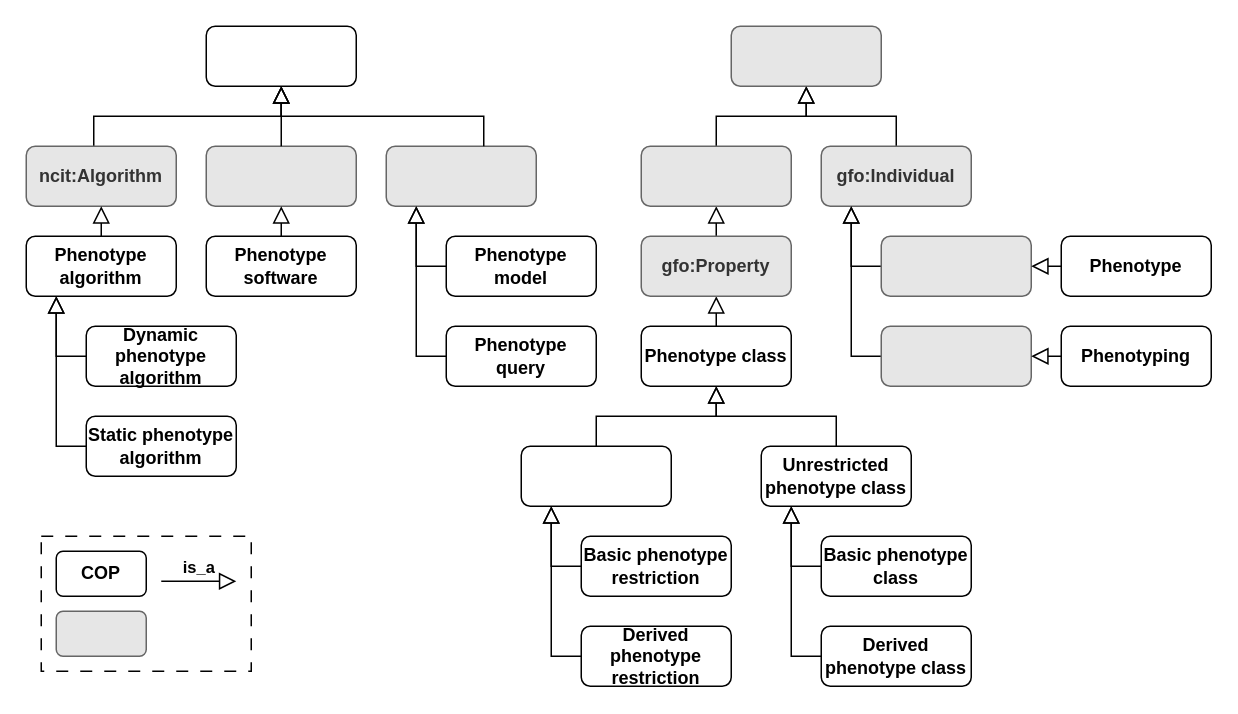
Image size: 1238x714. Some labels were removed from this diagram. The shapes that lost their labels are listed below. From the top down, each one's centre as x and y in pixels, then its label:
At (280,55): "Representation entity".
At (805,55): "gfo:Entity".
At (280,175): "ncit:Computer program".
At (460,175): "ncit:Model".
At (715,175): "gfo:Category".
At (955,265): "gfo:Attributive".
At (955,355): "gfo:Process".
At (595,475): "Phenotype restriction".
At (100,633): "Imported concept".
